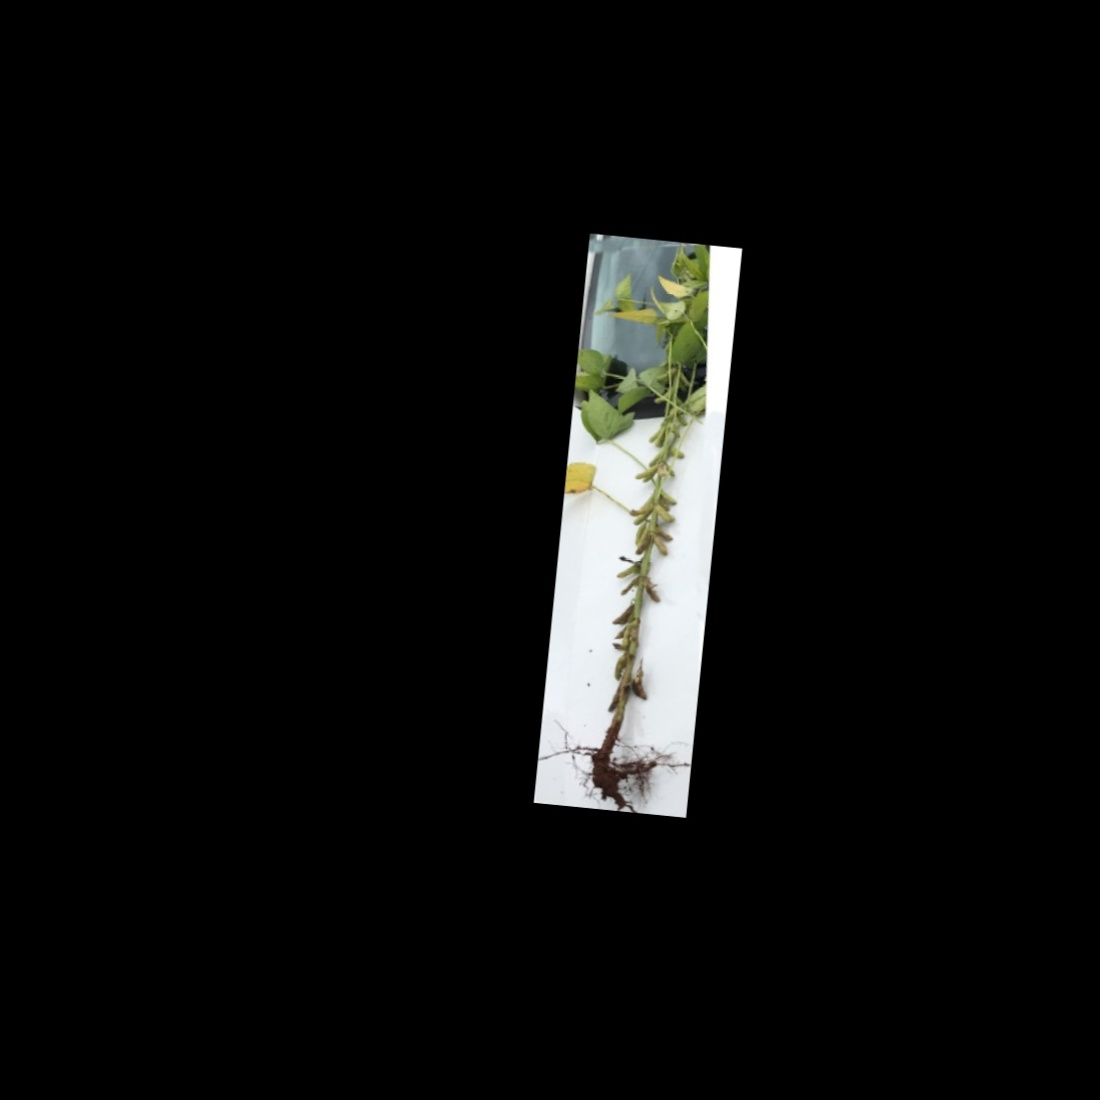pod: (649, 534, 675, 560), (632, 461, 661, 484), (631, 504, 654, 528), (652, 504, 676, 524), (655, 487, 679, 507), (651, 384, 672, 406), (666, 443, 688, 461)
soy: (542, 239, 731, 802)
